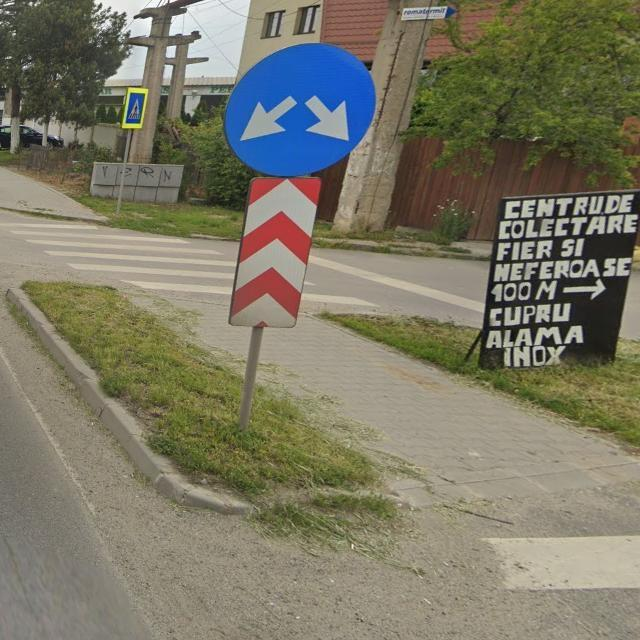info_crosswalk: (124, 85, 152, 130)
